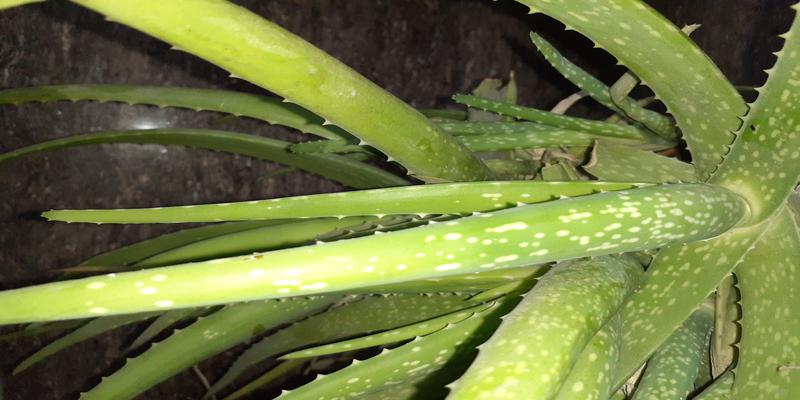Aloevera: (153, 57, 794, 389)
